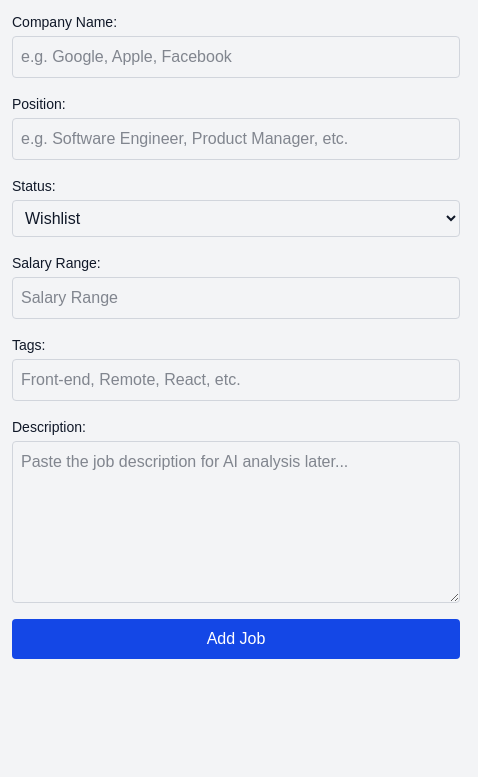
JobForm › validation › shows errors for company name and position when they are empty on submit
Click the button "Add Job" at (236, 639), box [12,619,460,659]
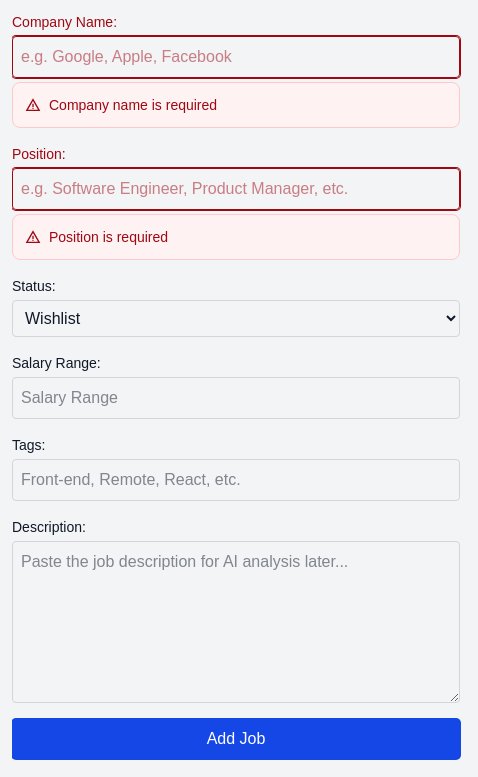
Check: the text "Company name is required" is shown, box [25,97,217,113]
Check: the text "Position is required" is shown, box [25,229,168,245]
